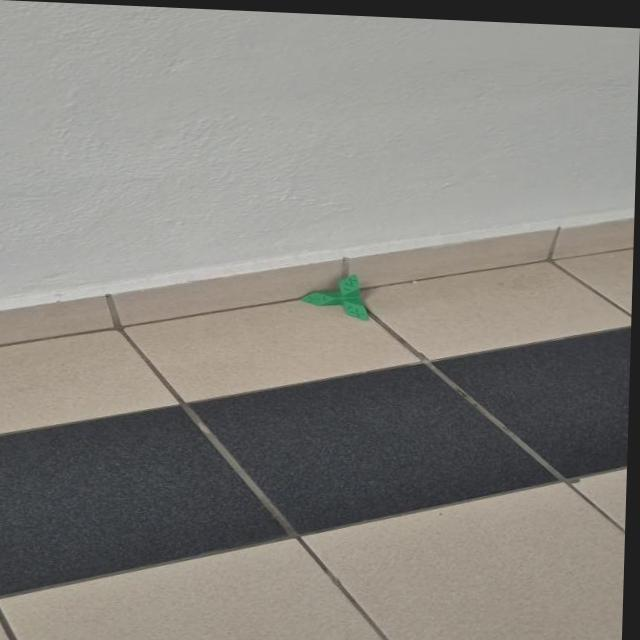eje: (298, 271, 372, 322)
